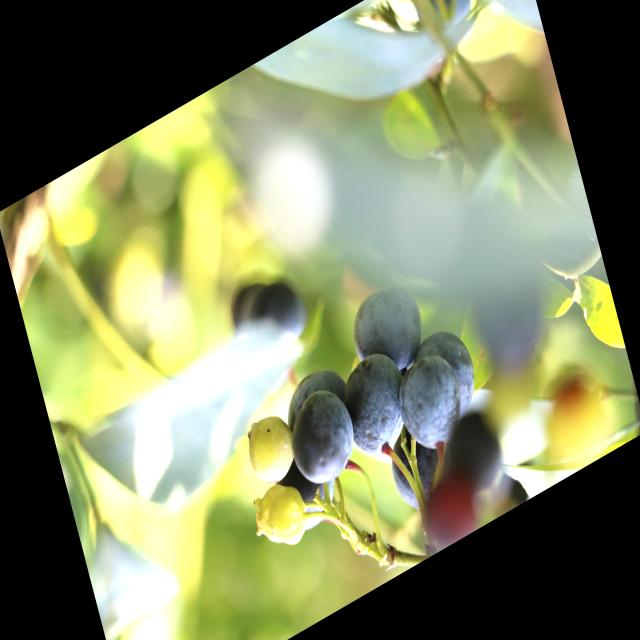blueberry: (340, 266, 436, 400), (332, 341, 420, 473), (388, 334, 474, 468), (276, 373, 365, 502), (430, 390, 514, 513), (410, 312, 487, 438), (270, 434, 348, 545), (380, 416, 458, 523), (410, 457, 492, 558), (240, 267, 313, 371), (277, 351, 355, 444), (223, 265, 279, 343)
blueberry-unripe: (252, 472, 316, 560), (242, 404, 302, 496)
